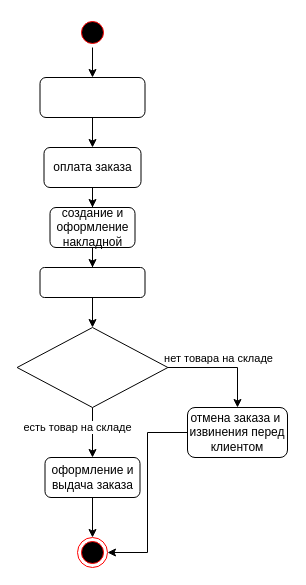
Image size: 306x585. Some labels were removed from this diagram. The shapes that lost their labels are listed below. From the top down, each one's box as (x1, y1, x2, y2) in pixels, then its label:
(39, 76, 145, 118): создание заказа
(39, 266, 145, 298): оформление счета
